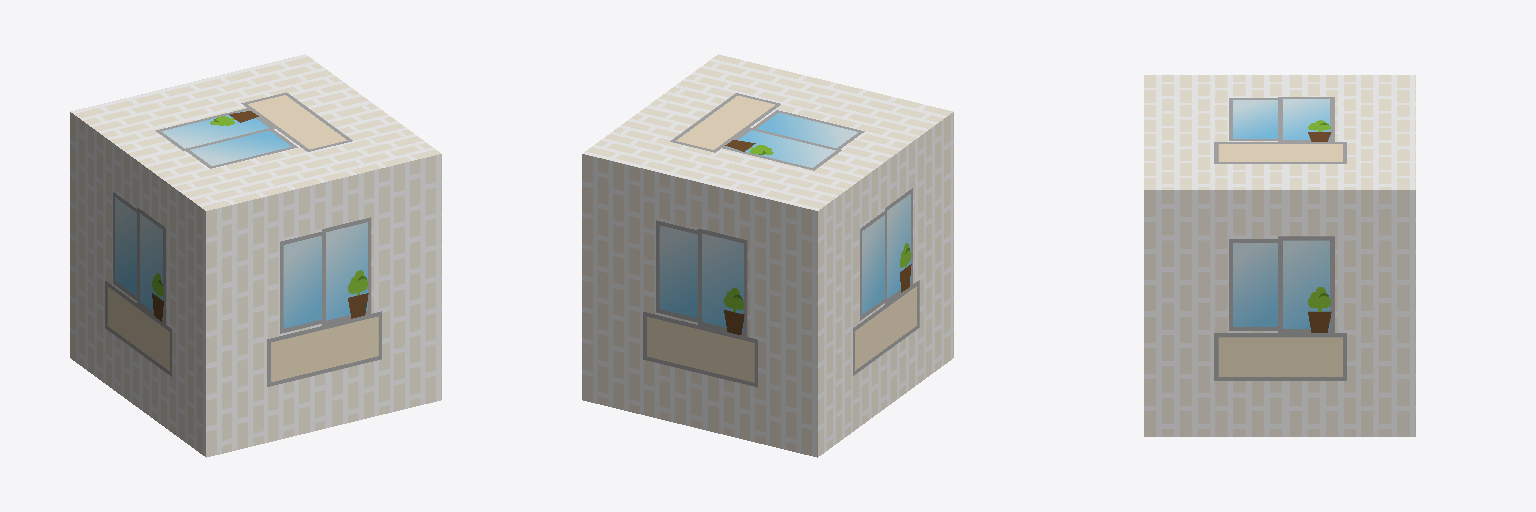
The picture shows the model from 3 angles: view 1: azimuth 30°, elevation 25°; view 2: azimuth 150°, elevation 25°; view 3: azimuth 270°, elevation 25°; orthographic projection.
Parts seen in each view (by area): view 1: Cube; view 2: Cube; view 3: Cube.
Boxes of the visible parts, <box> form: Cube: <box>70,54,441,457</box>; Cube: <box>582,54,953,457</box>; Cube: <box>1144,75,1415,436</box>.
Bounding box in the file's own units: 2 × 2 × 2.
1 materials, 1 textured.